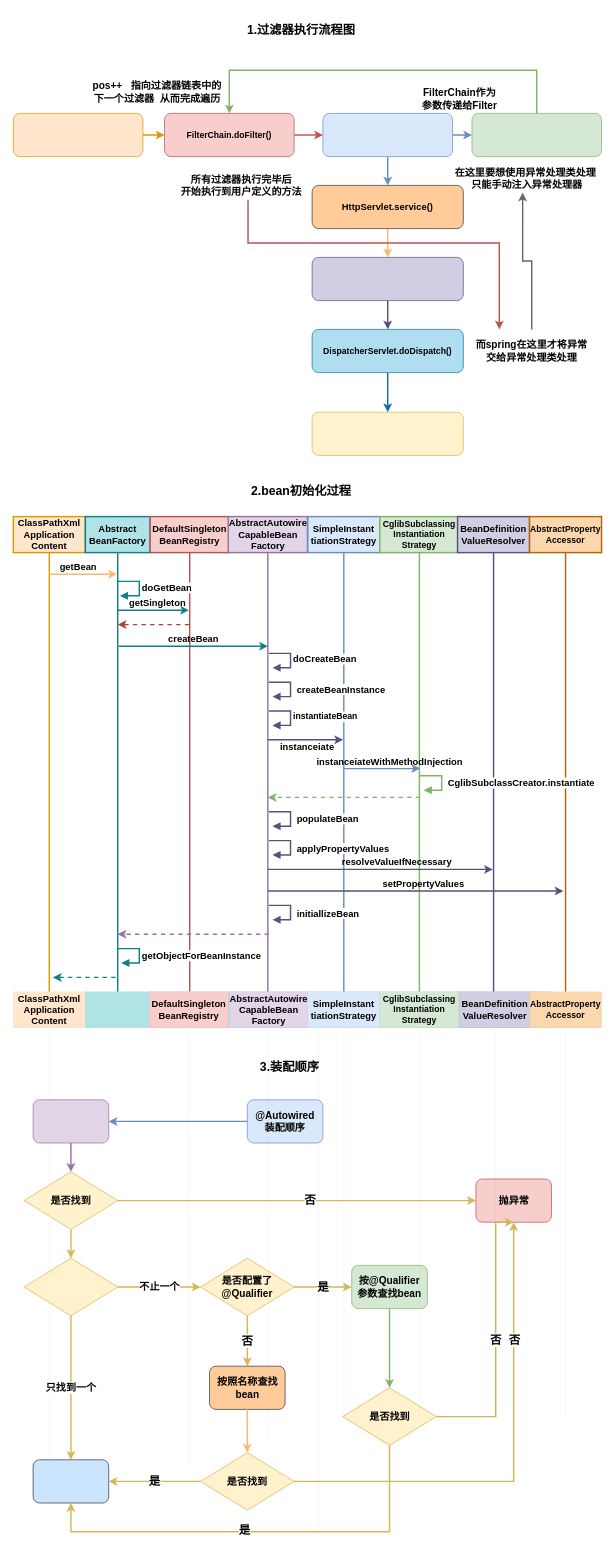
Some shapes in this 614 by 1550 pixel diagram are drawn without their labels. Here are the shapes that lost their labels. From the top down, the box of each, then its label:
(13, 113, 143, 157): FilterChain.createFilterChain()
(322, 113, 453, 157): FilterChain.internalDoFilter()
(471, 113, 602, 157): Filter.doFilter()
(311, 257, 463, 301): DispatcherServlet.doService()
(311, 411, 463, 455): Controller Layer
(32, 1099, 109, 1143): 按类型查找
(23, 1257, 118, 1316): 是否找到 多个
(32, 1459, 109, 1503): 自动装配
